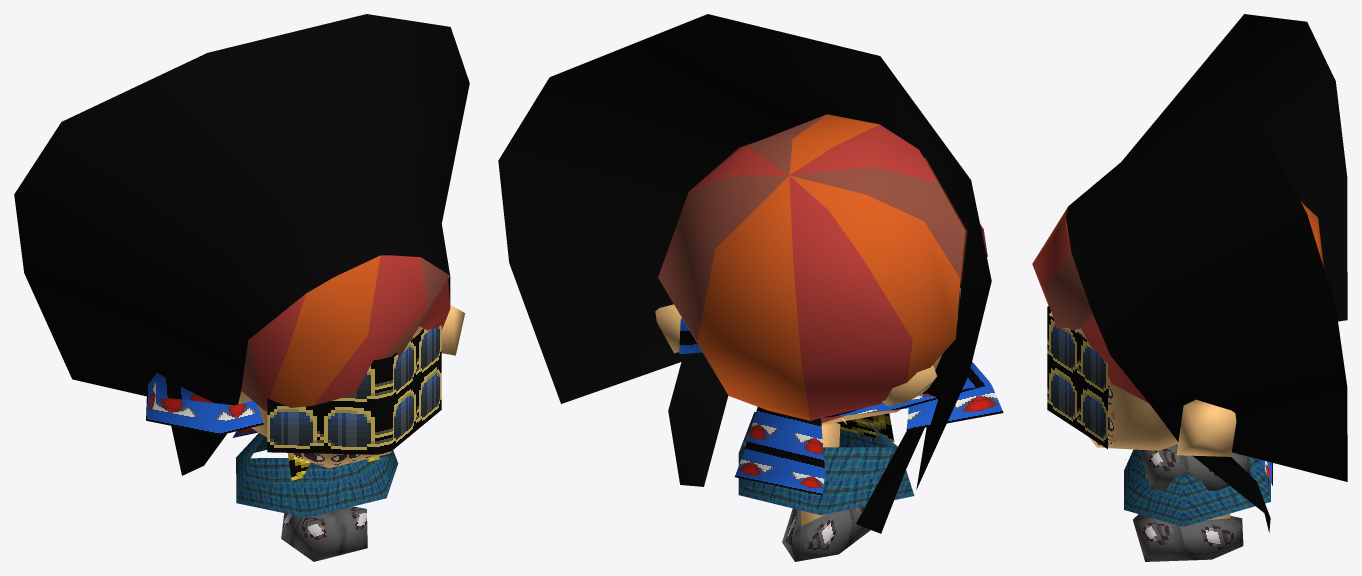
3 renders of one model, left to right at view 1: azimuth 30°, elevation 25°; view 2: azimuth 150°, elevation 25°; view 3: azimuth 270°, elevation 25°, orthographic. The views are drawn at different scales.
Visible parts, largest first — view 1: pmd05_02_01; view 2: pmd05_02_01; view 3: pmd05_02_01.
Boxes of the visible parts, <box> form: pmd05_02_01: <box>14,14,469,561</box>; pmd05_02_01: <box>498,14,1003,561</box>; pmd05_02_01: <box>1032,14,1347,561</box>.
Size of the model in its own units: 1.7 by 1.74 by 1.01.
9 materials, 9 textured.
